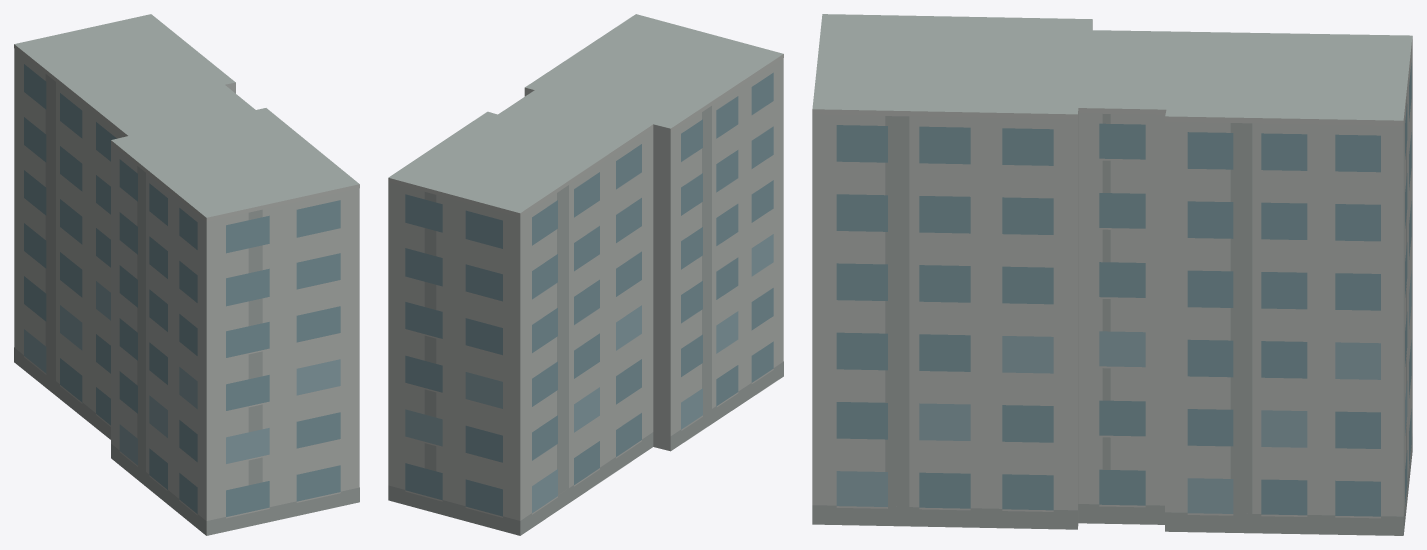
File: survey-upis-33040659.glb
3 views of the same model, side by side, from view 1: azimuth 30°, elevation 25°; view 2: azimuth 150°, elevation 25°; view 3: azimuth 270°, elevation 25° (orthographic). The views are drawn at different scales.
Visible parts, largest first — view 1: survey-upis-33040659.tmp; view 2: survey-upis-33040659.tmp; view 3: survey-upis-33040659.tmp.
Boxes of the visible parts, <box> form: survey-upis-33040659.tmp: <box>14,14,359,535</box>; survey-upis-33040659.tmp: <box>388,14,783,535</box>; survey-upis-33040659.tmp: <box>812,14,1412,535</box>.
Size of the model in its own units: 10.36 by 18.8 by 24.64.
